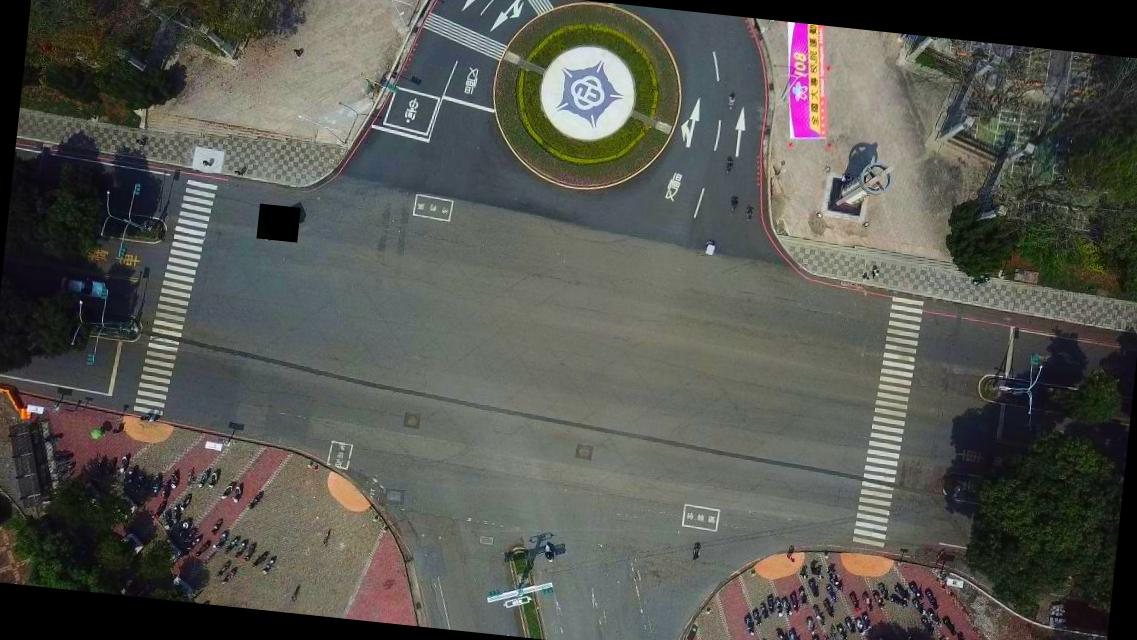vehicle: (56, 276, 109, 298)
